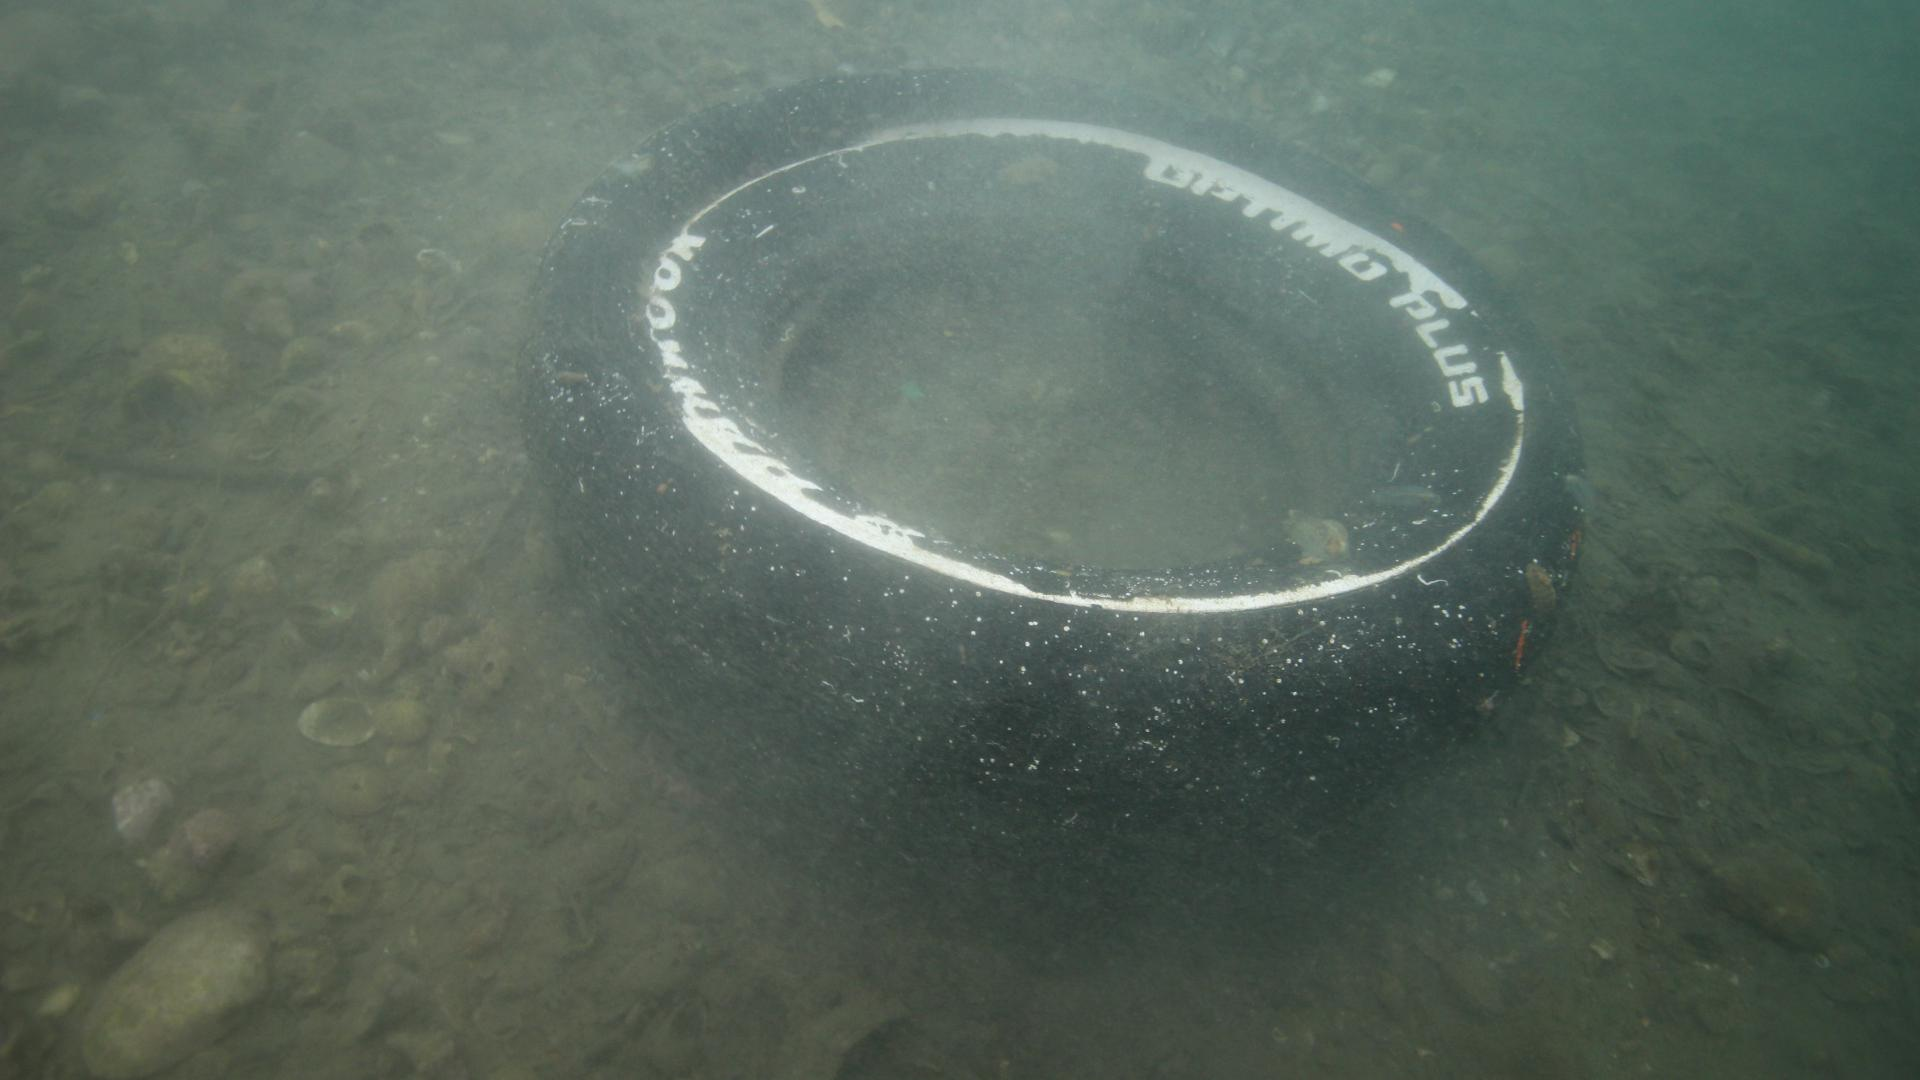tire: (514, 63, 1580, 945)
